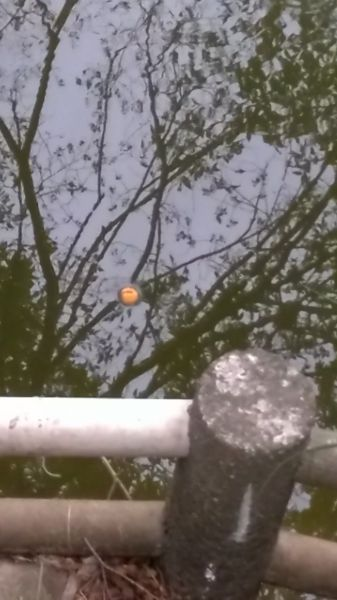eggs: (114, 282, 142, 306)
